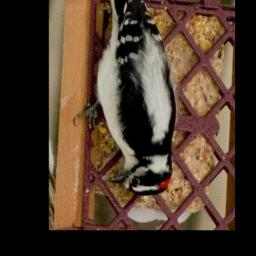Woodpecker: (73, 0, 175, 196)
